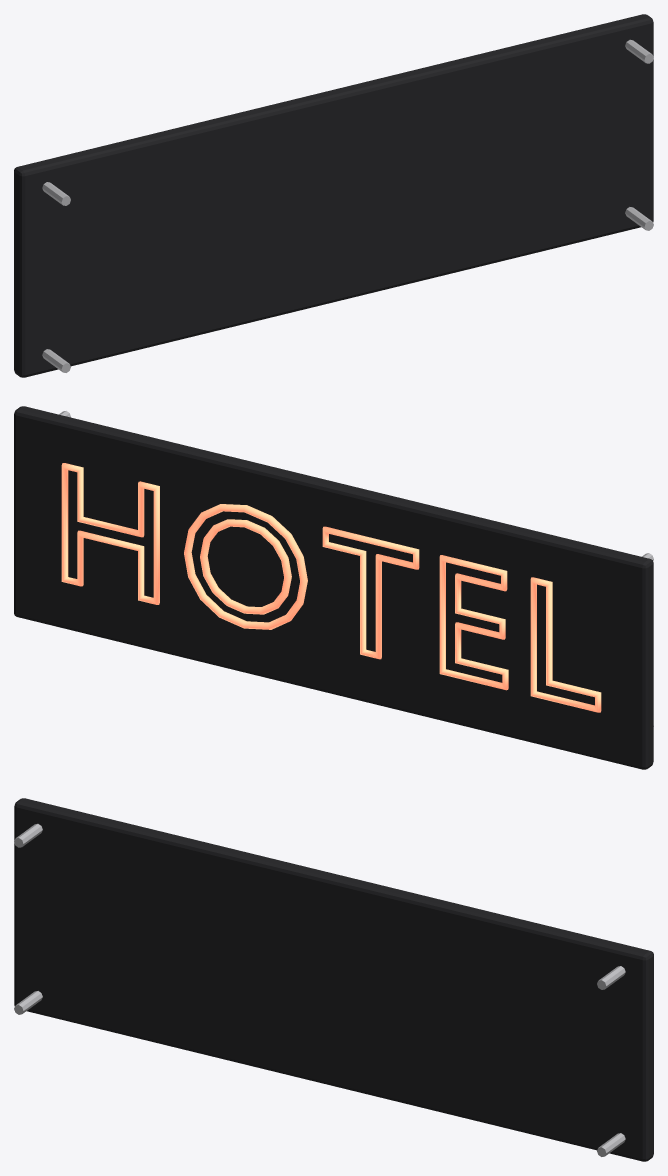
File: neon_sign_hotel.glb
3 views of the same model, one above another, from view 1: azimuth 30°, elevation 25°; view 2: azimuth 150°, elevation 25°; view 3: azimuth 330°, elevation 25° (orthographic).
Visible parts, largest first — view 1: neon_sign_hotel; view 2: neon_sign_hotel; view 3: neon_sign_hotel.
Part boxes in pixels (x1,y1,x2,y2): neon_sign_hotel: [14, 14, 653, 377]; neon_sign_hotel: [14, 406, 653, 769]; neon_sign_hotel: [14, 798, 653, 1161].
Bounding box in the file's own units: 1.99 × 0.62 × 0.181.
